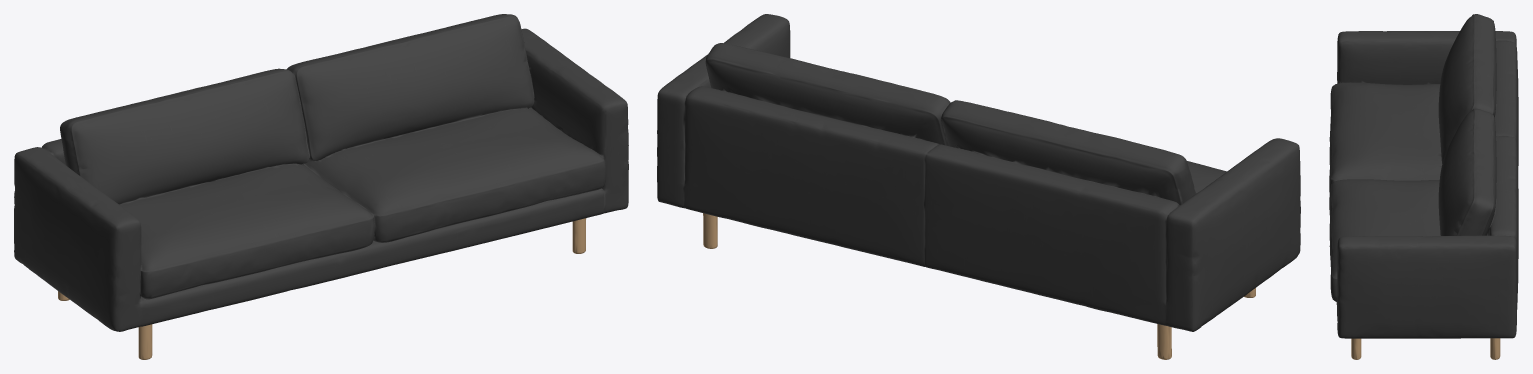
The picture shows the model from 3 angles, left to right: view 1: azimuth 30°, elevation 25°; view 2: azimuth 150°, elevation 25°; view 3: azimuth 270°, elevation 25°; orthographic projection. The views are drawn at different scales.
Visible parts, largest first — view 1: tripo_node_fa821592-c333-418f-9df5-695a3ff90406; view 2: tripo_node_fa821592-c333-418f-9df5-695a3ff90406; view 3: tripo_node_fa821592-c333-418f-9df5-695a3ff90406.
Part boxes in pixels (x1=…): tripo_node_fa821592-c333-418f-9df5-695a3ff90406: x1=14, y1=14, x2=628, y2=359; tripo_node_fa821592-c333-418f-9df5-695a3ff90406: x1=657, y1=14, x2=1300, y2=359; tripo_node_fa821592-c333-418f-9df5-695a3ff90406: x1=1329, y1=14, x2=1518, y2=359.
Size of the model in its own units: 2.2 by 0.75 by 0.8001.
2 materials, 1 textured.
